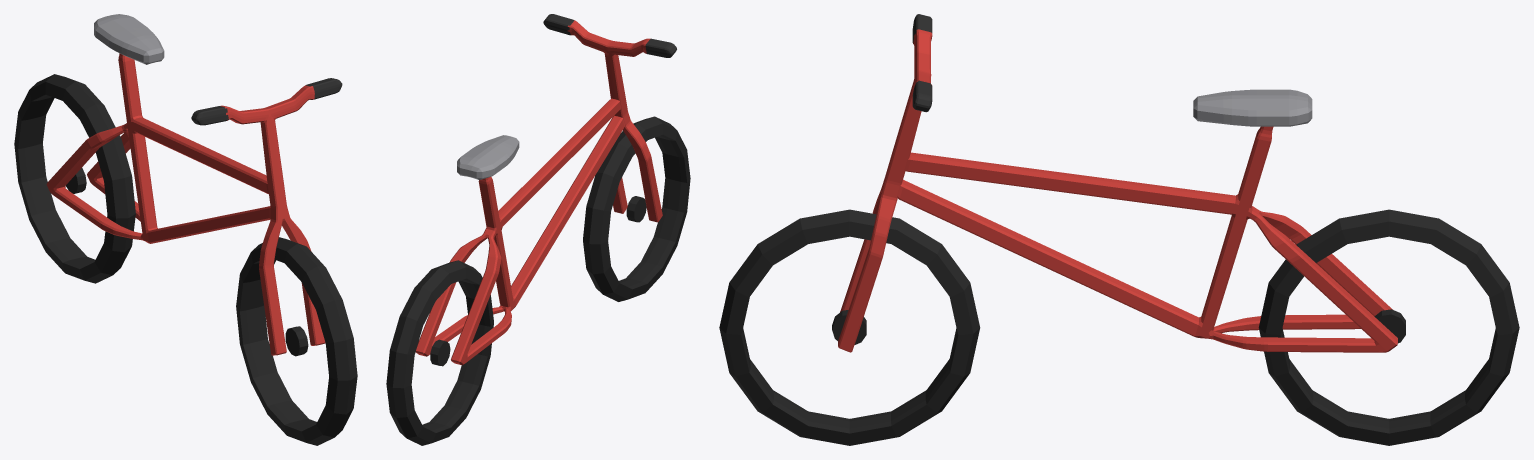
Rendered from bicycle.glb.
3 views of the same model, side by side, from view 1: azimuth 30°, elevation 25°; view 2: azimuth 150°, elevation 25°; view 3: azimuth 270°, elevation 25° (orthographic). The views are drawn at different scales.
Visible parts, largest first — view 1: bicycle; view 2: bicycle; view 3: bicycle.
Boxes of the visible parts, x1=… form: bicycle: x1=14, y1=14, x2=357, y2=445; bicycle: x1=386, y1=14, x2=690, y2=445; bicycle: x1=719, y1=14, x2=1519, y2=445.
Bounding box in the file's own units: 0.4485 × 0.9455 × 1.75.
